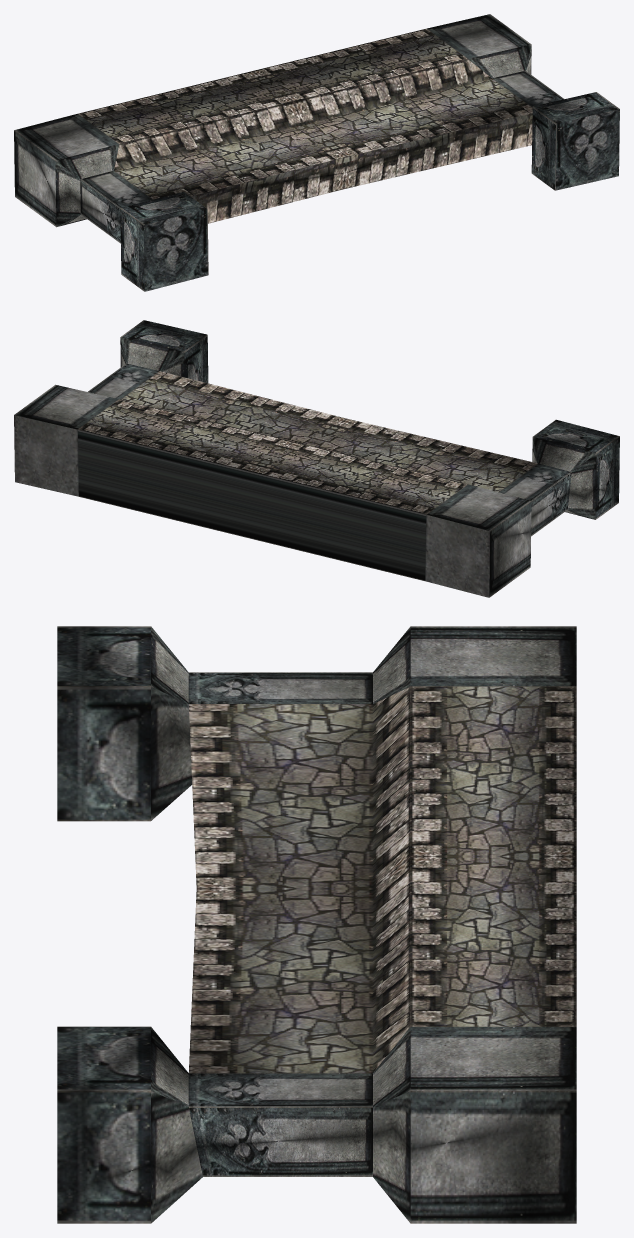
The model's file is wall-01.obj.
3 views of the same model, one above another, from view 1: azimuth 30°, elevation 25°; view 2: azimuth 150°, elevation 25°; view 3: azimuth 270°, elevation 25° (orthographic). The views are drawn at different scales.
Parts seen in each view (by area): view 1: (null); view 2: (null); view 3: (null).
Part boxes in pixels (x1,y1,x2,y2): (null): (14, 14, 619, 291); (null): (14, 320, 619, 597); (null): (57, 626, 576, 1223).
Size of the model in its own units: 5.87 by 0.8002 by 2.77.
